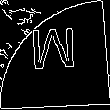M_S: (29, 28, 81, 82)
